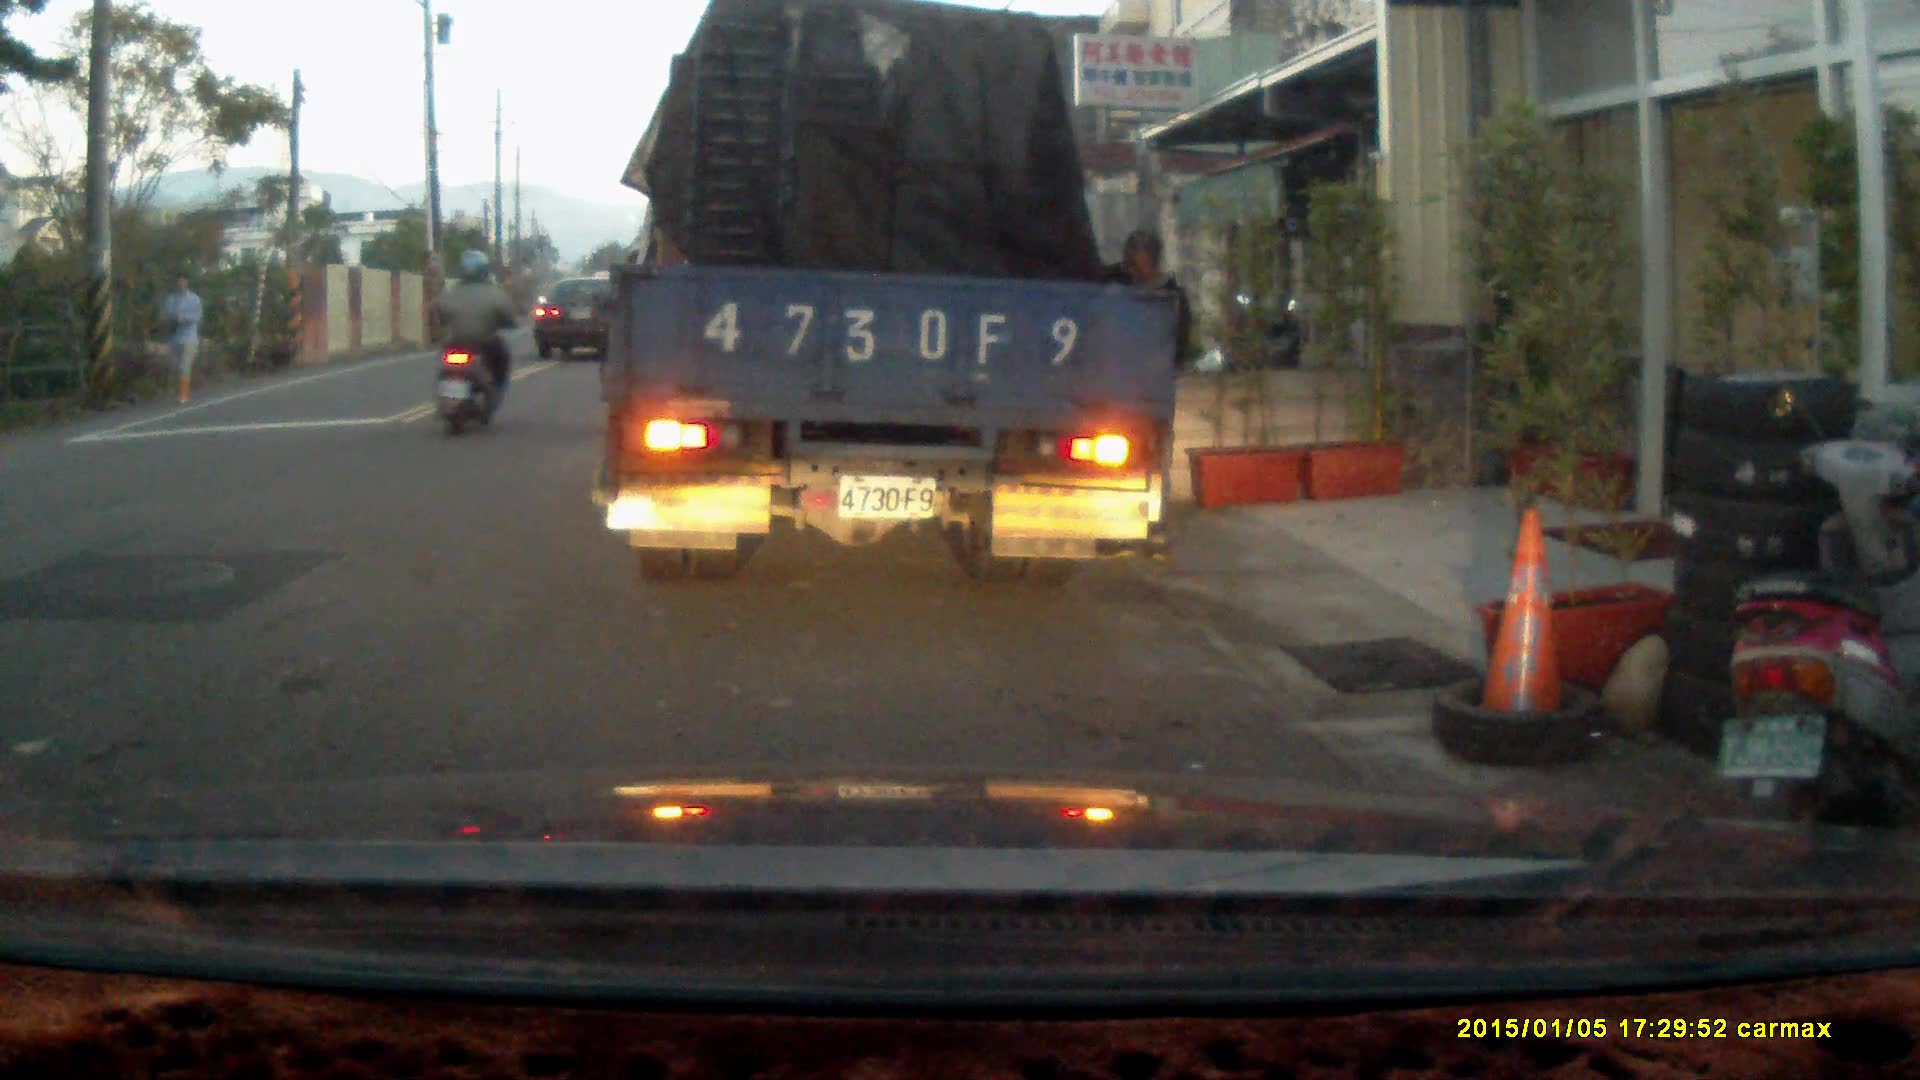pedestrian: (1064, 225, 1193, 562), (156, 268, 204, 406)
rider: (425, 246, 516, 440)
vehicle: (604, 23, 1184, 572), (532, 277, 646, 365)
